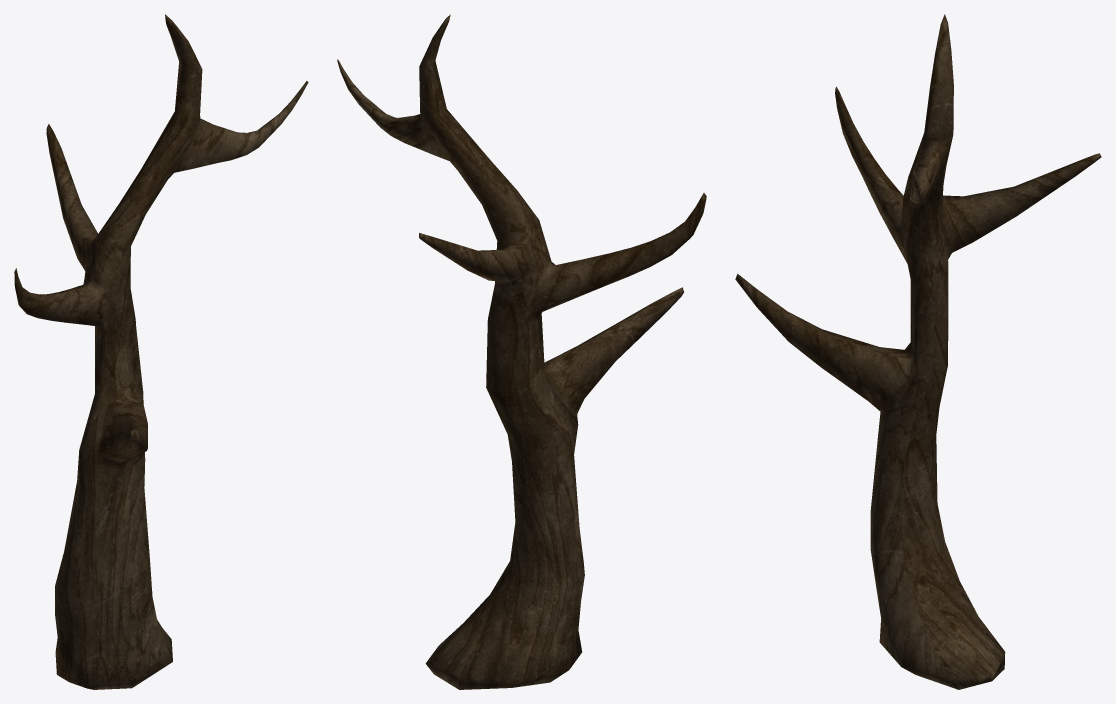
The model's file is Tree.fbx.
3 views of the same model, side by side, from view 1: azimuth 30°, elevation 25°; view 2: azimuth 150°, elevation 25°; view 3: azimuth 270°, elevation 25° (orthographic). The views are drawn at different scales.
Parts seen in each view (by area): view 1: Box001; view 2: Box001; view 3: Box001.
Part boxes in pixels (left/top/right/bottom): Box001: left=14, top=14, right=308, bottom=689; Box001: left=337, top=14, right=706, bottom=689; Box001: left=735, top=14, right=1101, bottom=689.
Bounding box in the file's own units: 209 × 391 × 191.
